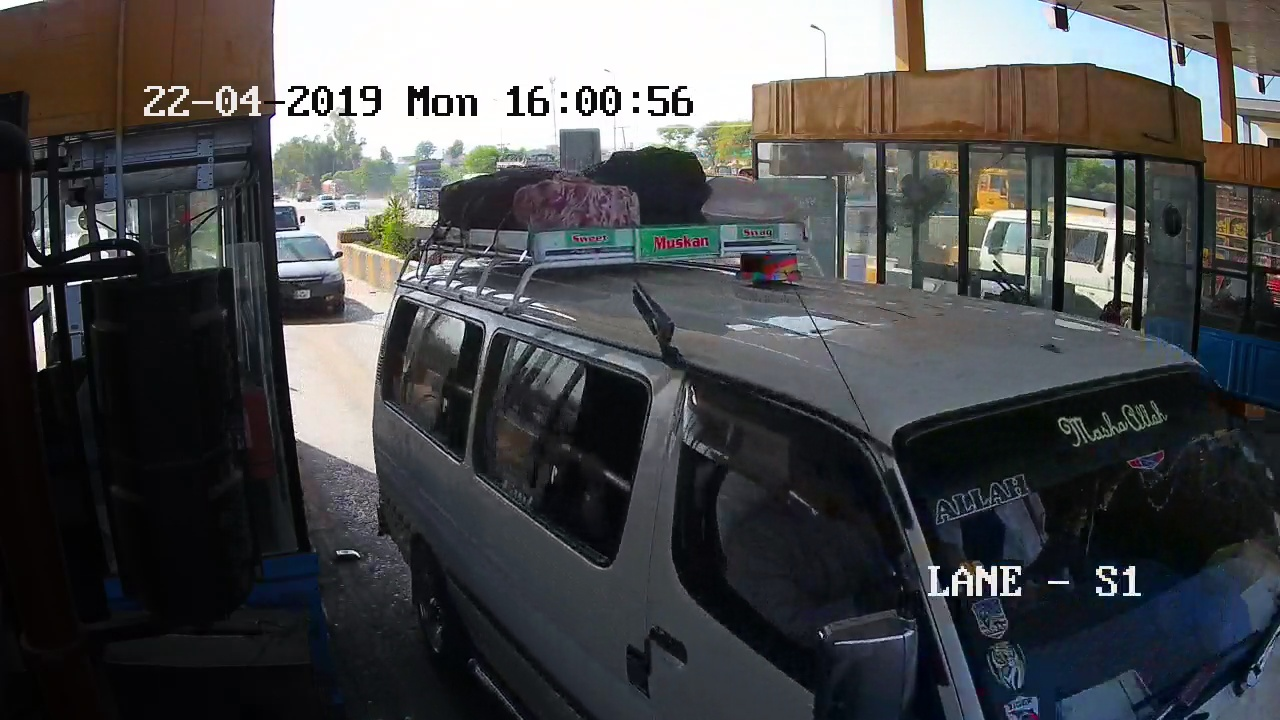car: (377, 248, 1248, 720)
